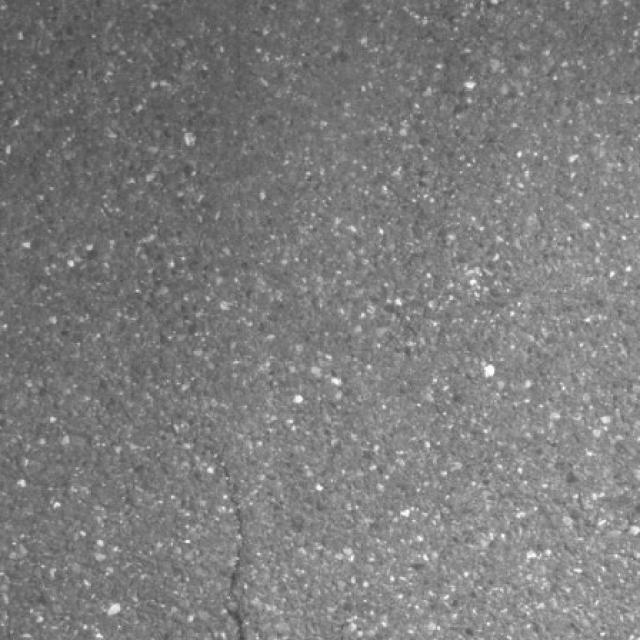Vertical Crack: (153, 429, 252, 640)
